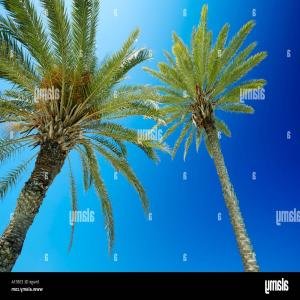palm tree: (0, 0, 171, 272), (140, 3, 268, 272)
